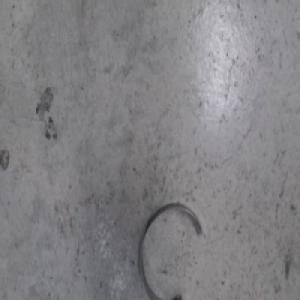AdjustableClamp: (139, 201, 206, 297)
